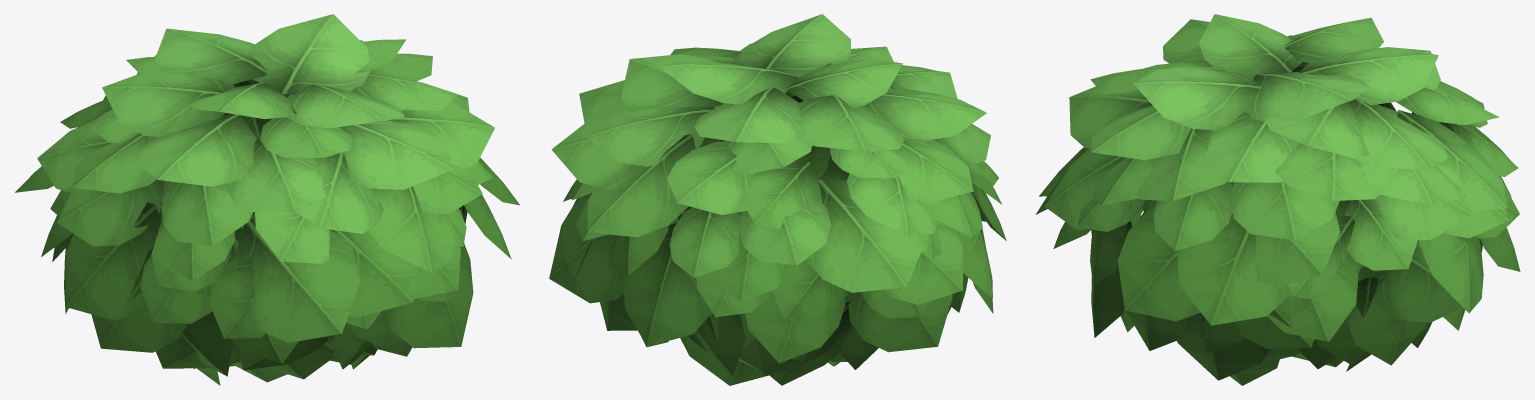
3 renders of one model, left to right at view 1: azimuth 30°, elevation 25°; view 2: azimuth 150°, elevation 25°; view 3: azimuth 270°, elevation 25°, orthographic. The views are drawn at different scales.
Parts seen in each view (by area): view 1: grid_8_leaves_LOD0; view 2: grid_8_leaves_LOD0; view 3: grid_8_leaves_LOD0.
Part boxes in pixels (x1,y1,x2,y2): grid_8_leaves_LOD0: [15, 14, 520, 385]; grid_8_leaves_LOD0: [549, 14, 1006, 385]; grid_8_leaves_LOD0: [1035, 14, 1520, 385].
Size of what is drawn, in the model's own units: 1.41 by 0.9617 by 1.4.
1 material, 1 textured.
